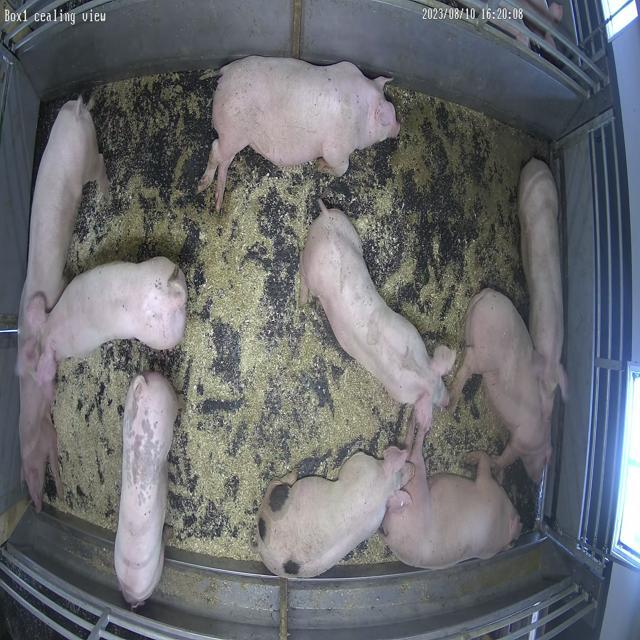Dirt: (392, 89, 530, 250), (91, 72, 215, 200)
Pig: (303, 201, 455, 432), (198, 55, 401, 210), (18, 98, 107, 334), (257, 447, 413, 578), (36, 257, 187, 384), (451, 289, 549, 482), (381, 439, 523, 570), (114, 373, 177, 608), (519, 158, 568, 416), (18, 294, 59, 510)
